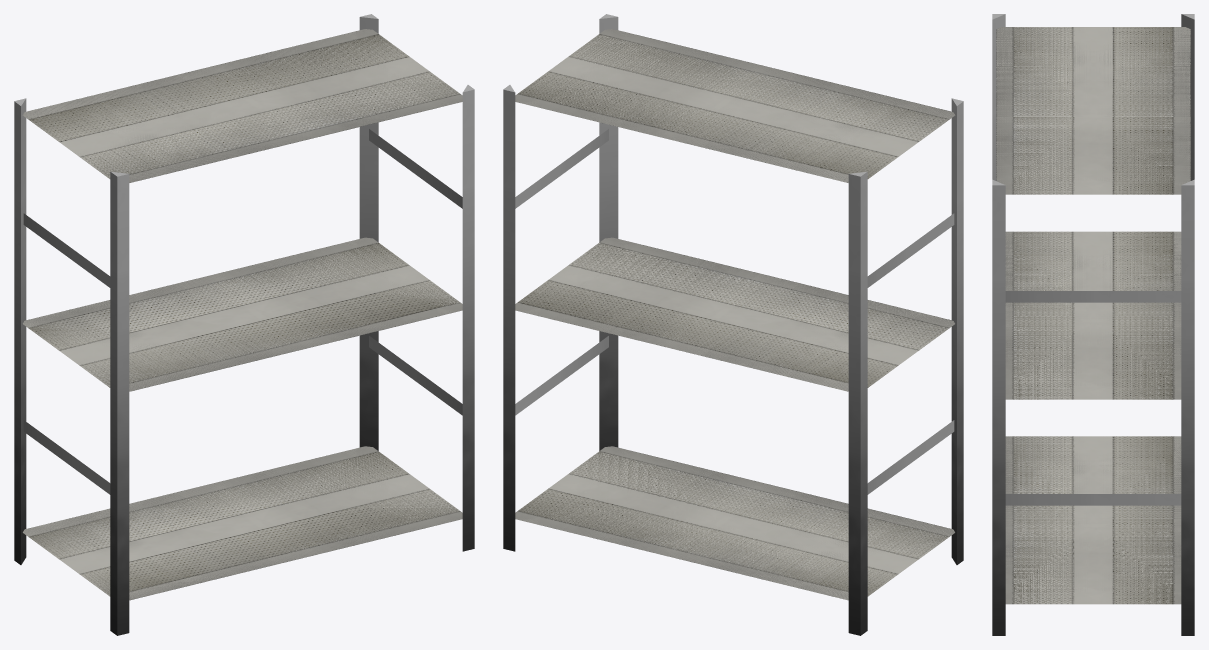
File: Tall_Rack.fbx
3 renders of one model, left to right at view 1: azimuth 30°, elevation 25°; view 2: azimuth 150°, elevation 25°; view 3: azimuth 270°, elevation 25°, orthographic.
Parts seen in each view (by area): view 1: Tall_Rack; view 2: Tall_Rack; view 3: Tall_Rack.
Part boxes in pixels (x1,y1,x2,y2): Tall_Rack: (14,14,474,635); Tall_Rack: (503,14,963,635); Tall_Rack: (992,14,1194,635).
Bounding box in the file's own units: 2 × 2.46 × 1.
